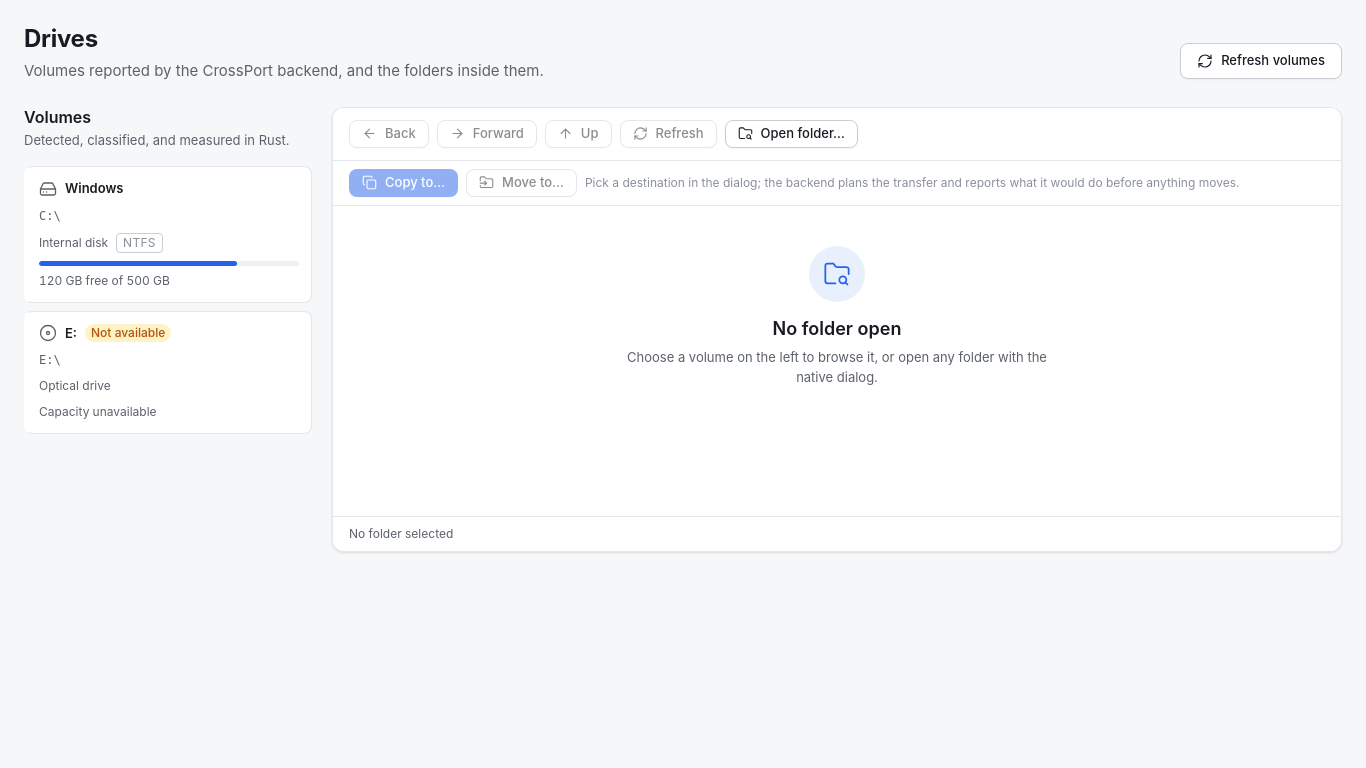
Test: DrivesPage › recovers when a volume disappeared before it was opened
The width and height of the screenshot is (1366, 768).
Expected: the text "Not available" is shown, [85, 324, 171, 342]
What coordinates should you click on to do the following:
click the button "E: Not available E:\\ Optical drive Capacity unavailable"
I would click on:
 (128, 333)
Its box is [24, 310, 312, 434].
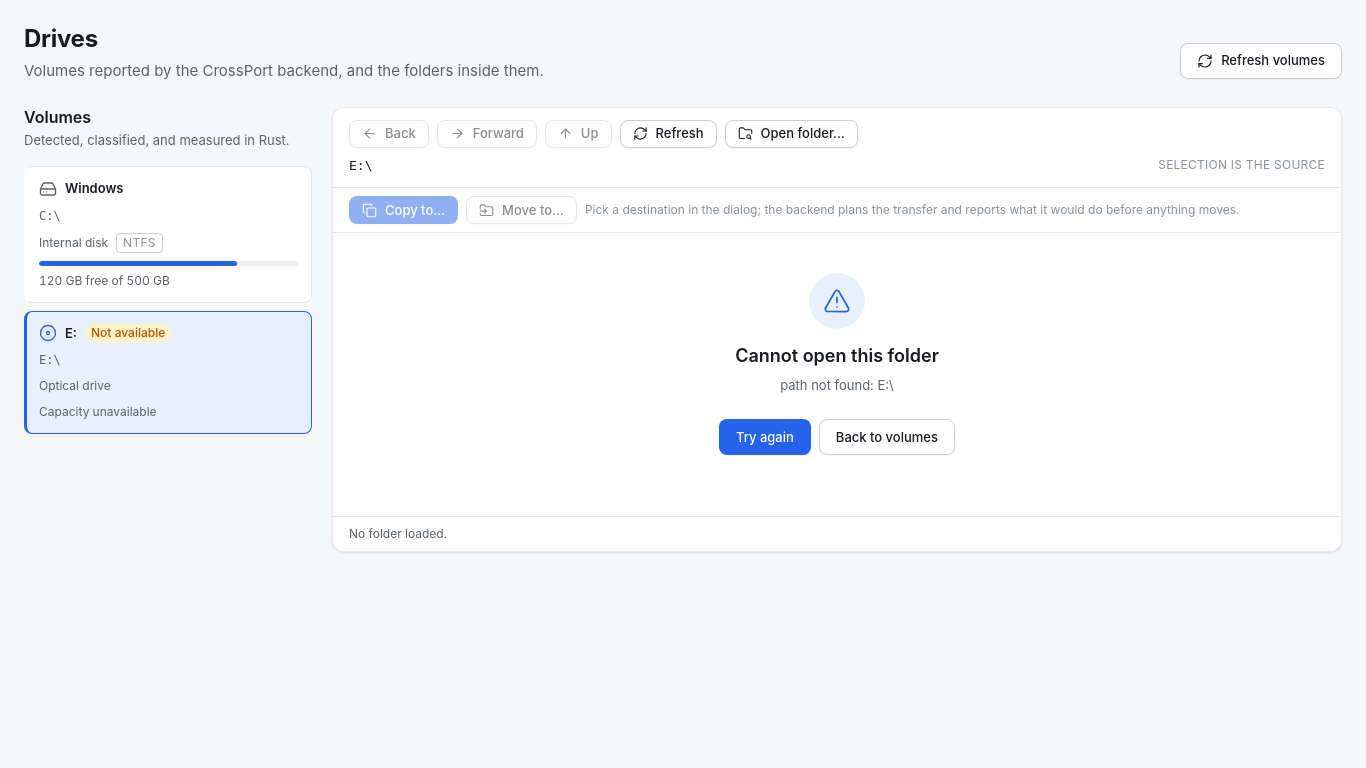
Expected: the message shows "path not found: E:\\", [780, 376, 894, 392]
What coordinates should you click on to do the following:
click the button "Back to volumes"
I would click on:
 (887, 437)
Its box is [819, 419, 955, 455].
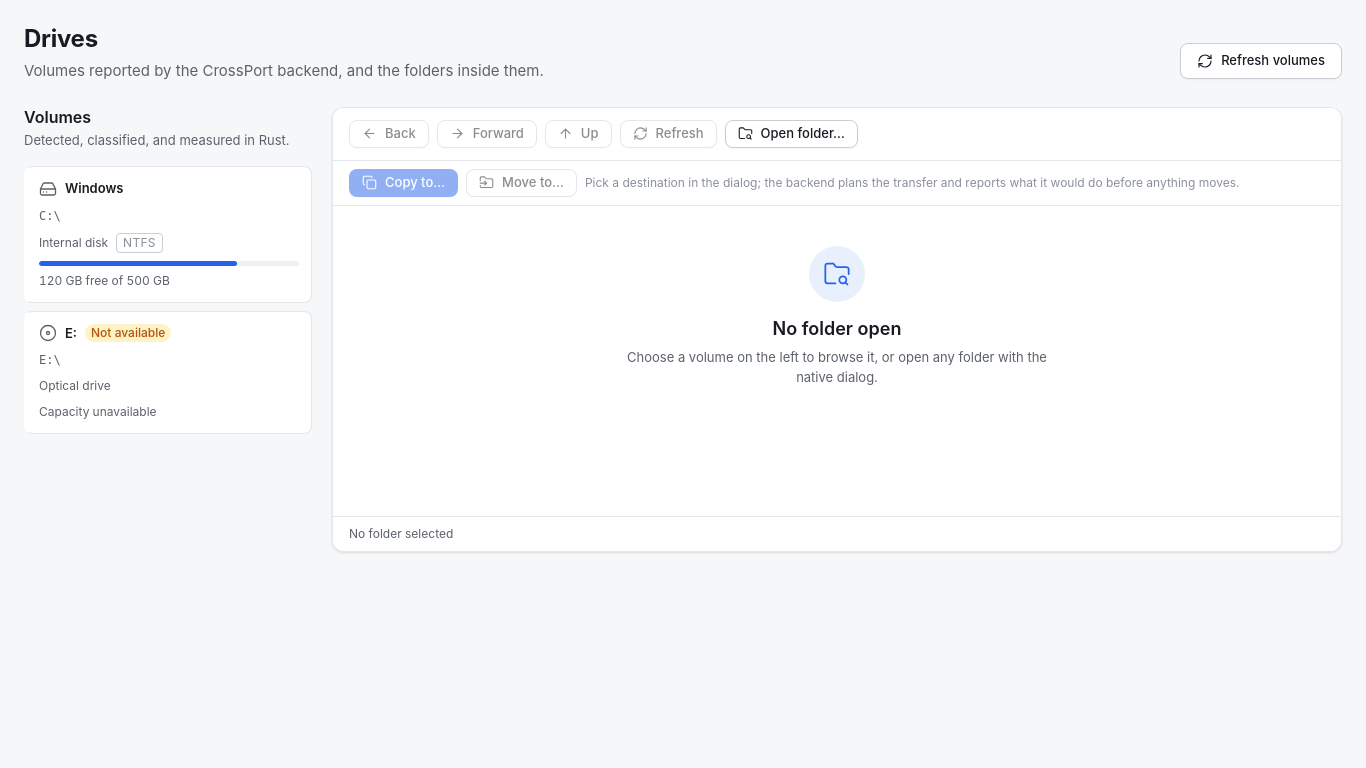
Expected: the heading "No folder open" is shown, [773, 318, 901, 340]
Expected: the message "Cannot open this folder path not found: E:\\ Try again Back to volumes" is gone
